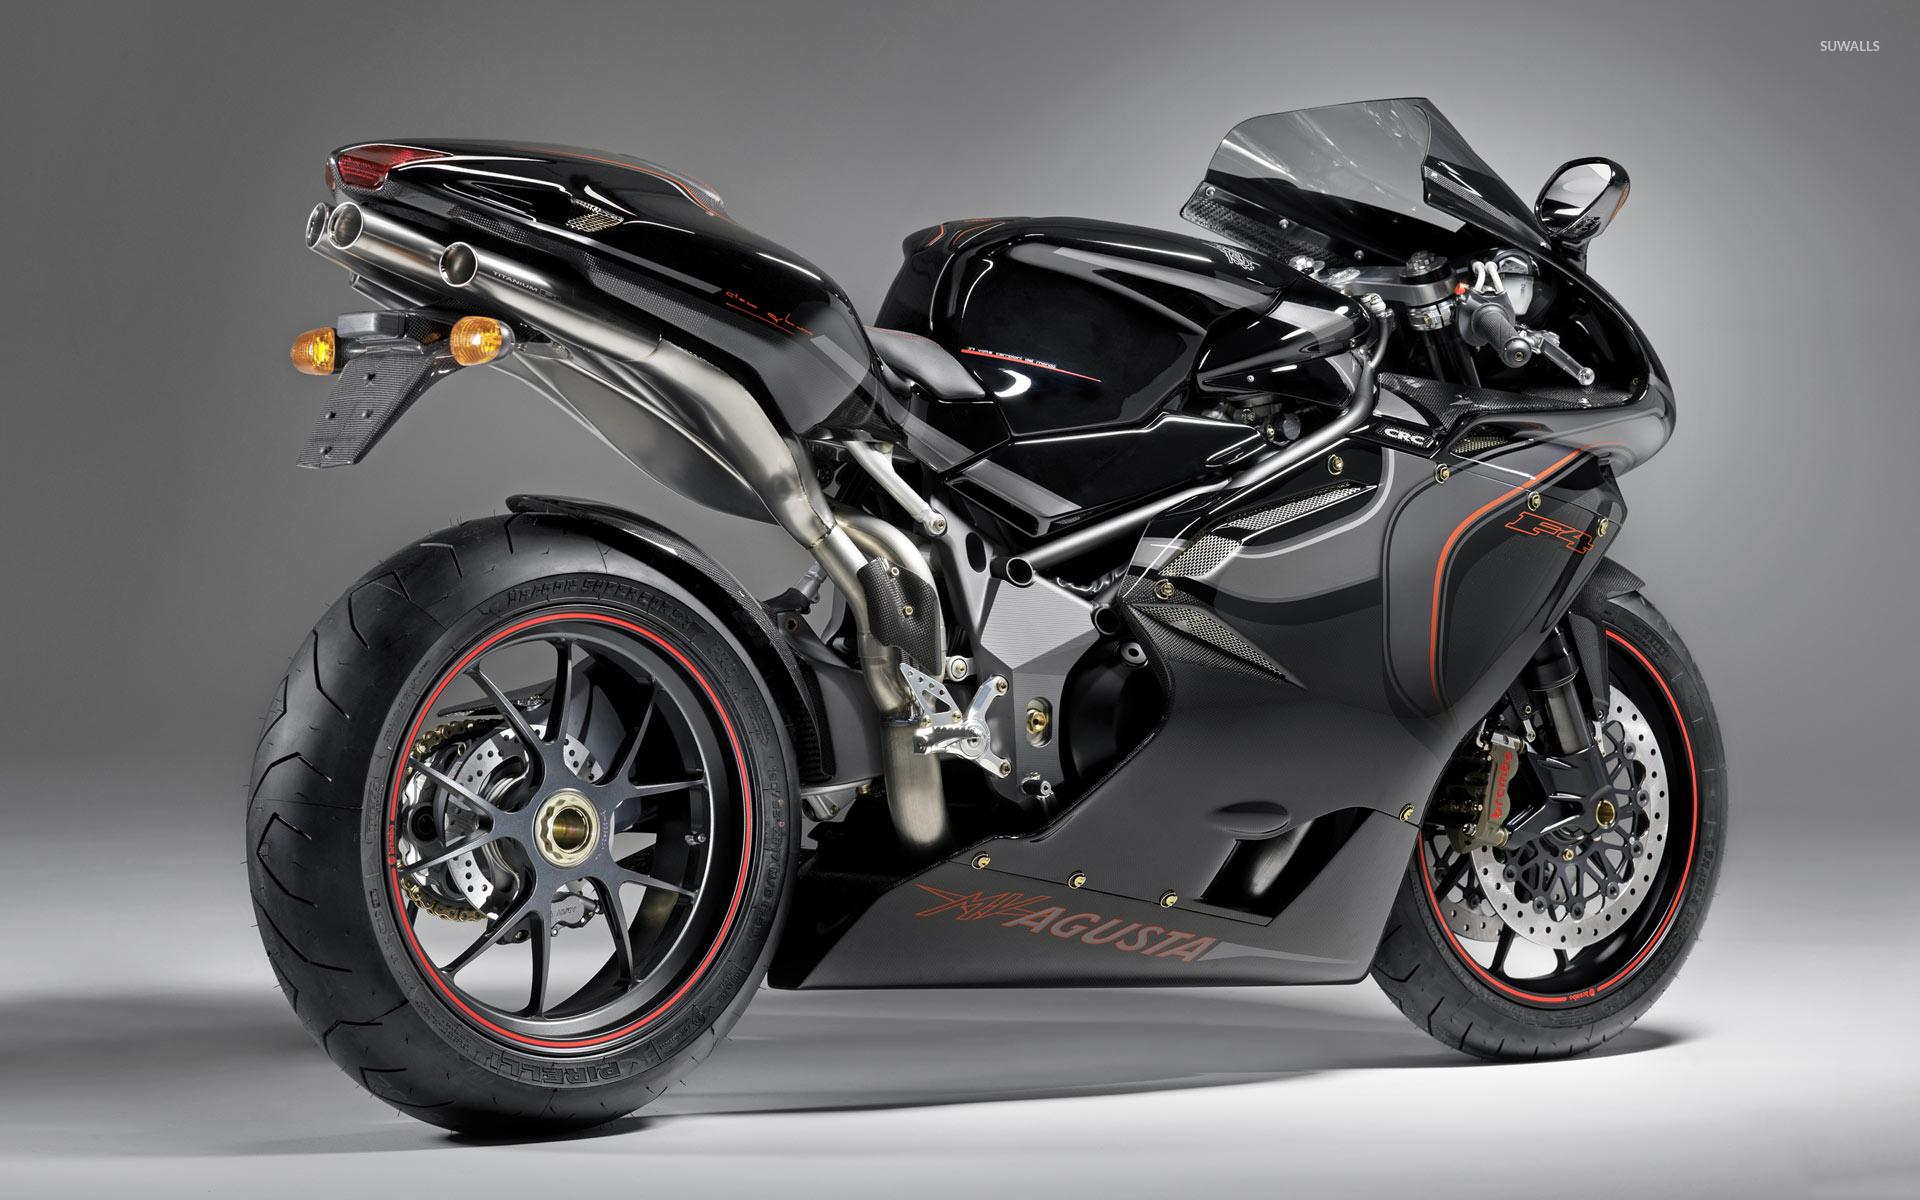motorcycle: (214, 88, 1733, 1154)
